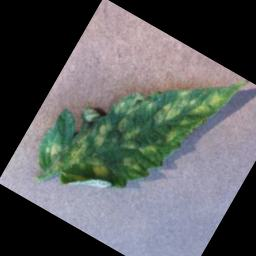Leaf_Mold: (148, 69, 231, 152), (96, 83, 161, 154), (62, 134, 91, 171), (84, 155, 112, 181), (89, 120, 113, 150), (119, 152, 143, 173), (42, 138, 64, 160), (162, 124, 179, 144)
